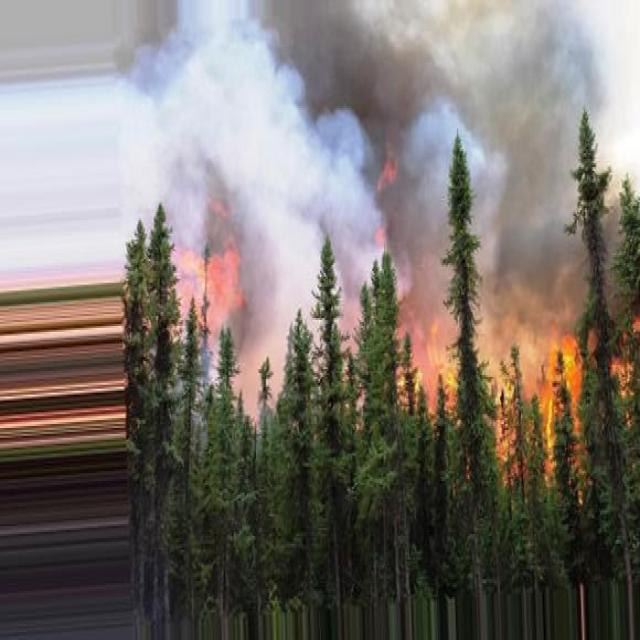fire: (489, 319, 585, 485), (394, 307, 465, 423), (169, 252, 242, 354)
smoke: (119, 0, 616, 300)
